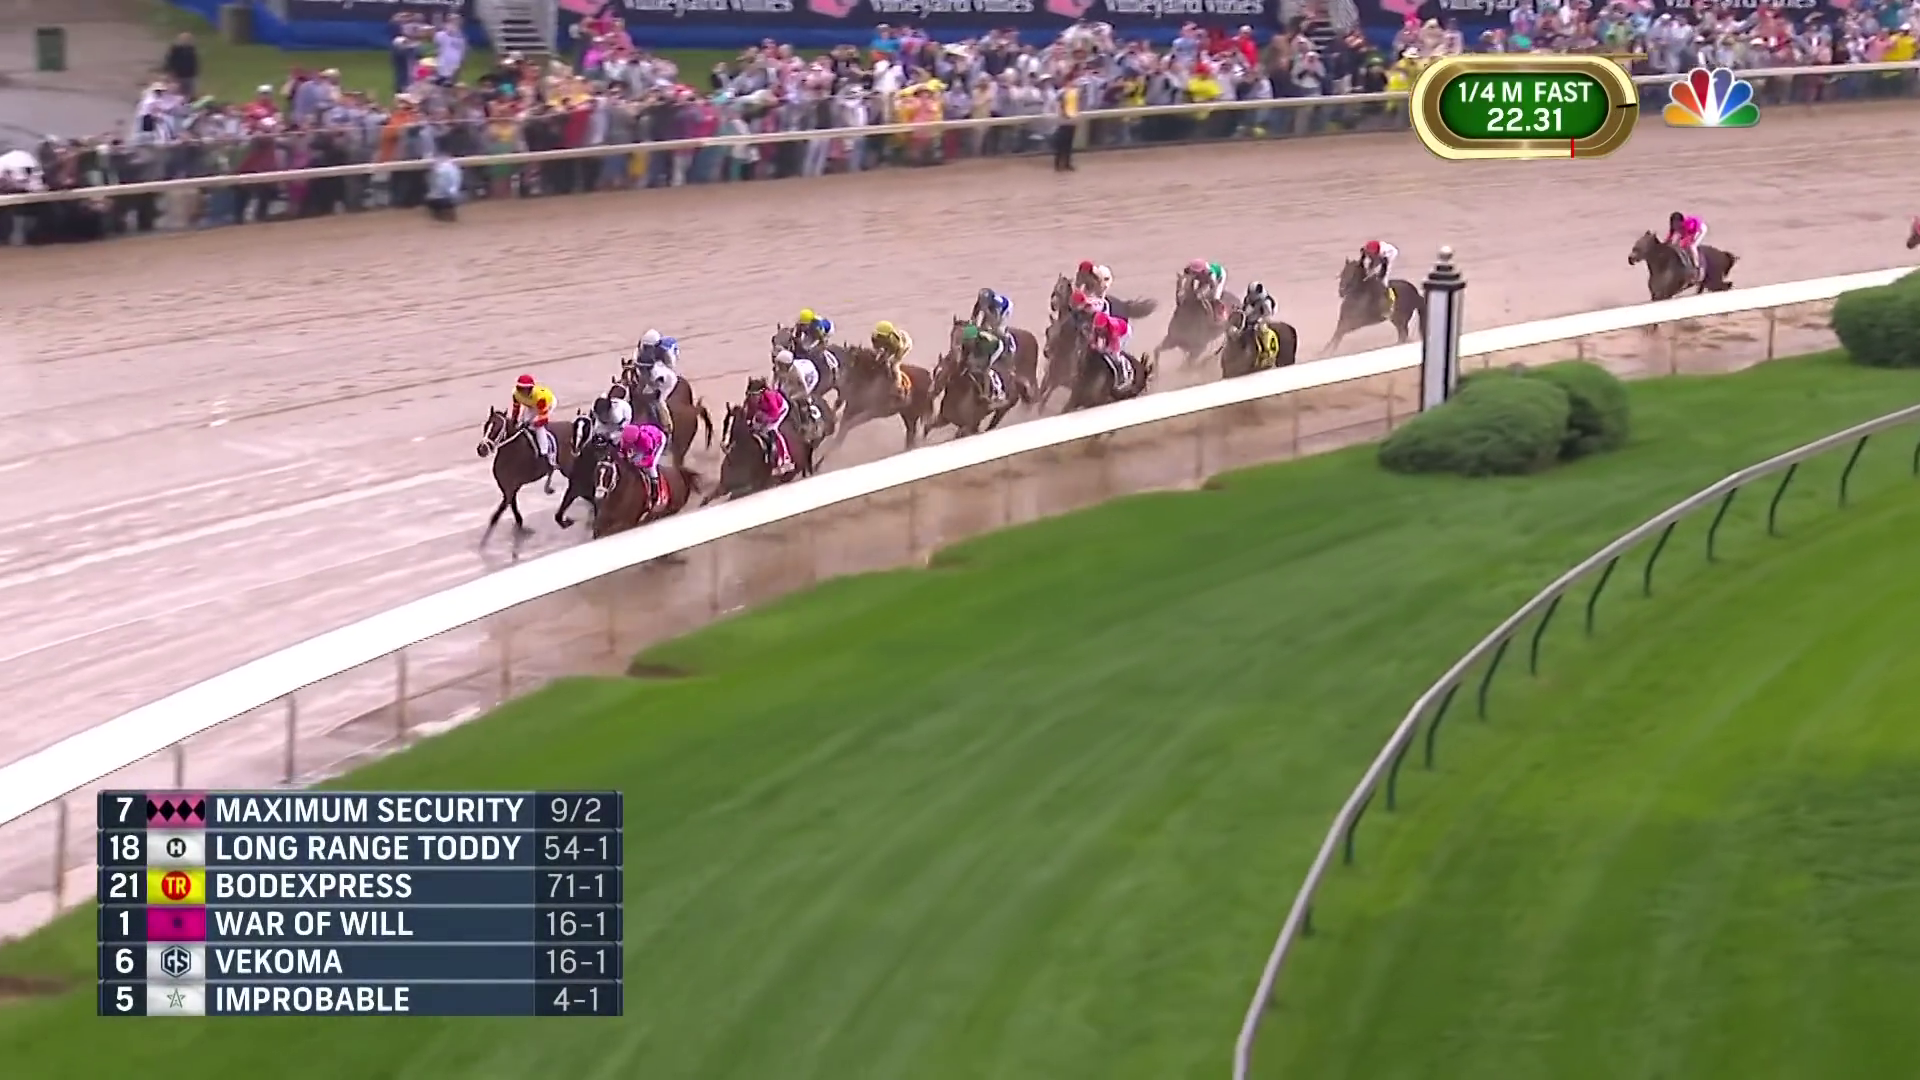jockey: (632, 331, 684, 421), (741, 384, 793, 471), (509, 375, 558, 451), (866, 322, 914, 398), (973, 285, 1017, 359), (791, 313, 837, 373), (1091, 313, 1133, 378), (620, 426, 665, 487), (1358, 237, 1396, 306), (1664, 212, 1706, 272), (1185, 260, 1228, 318), (1240, 282, 1276, 345)
